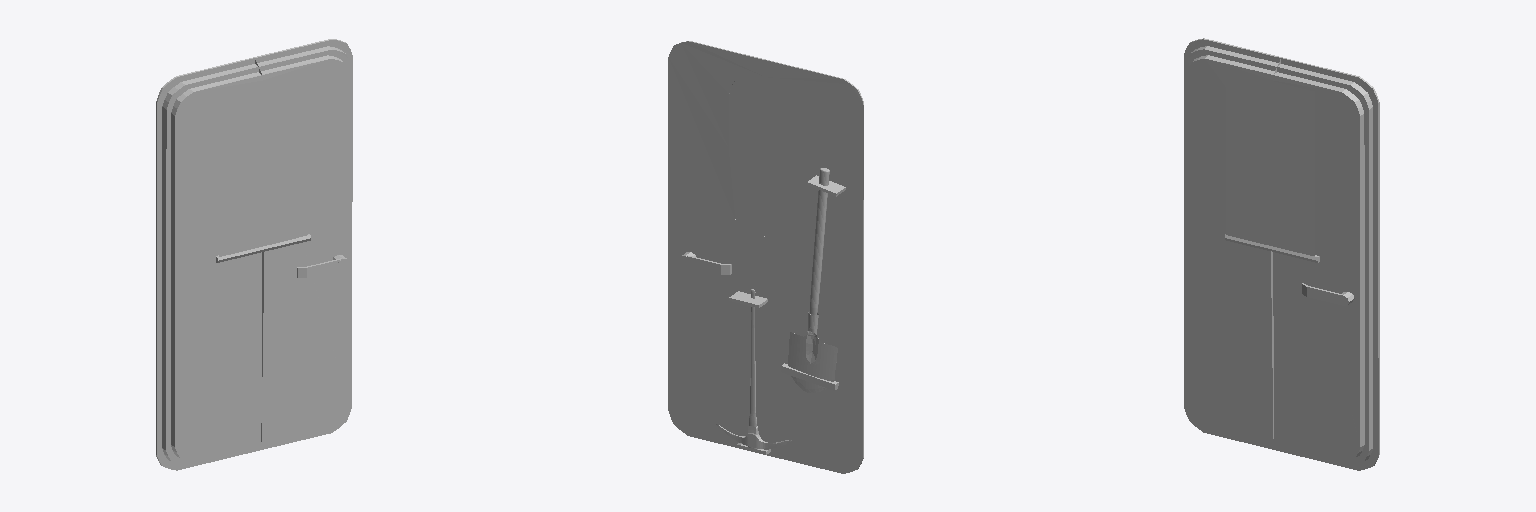
File: innerdoor.obj
The picture shows the model from 3 angles: view 1: azimuth 30°, elevation 25°; view 2: azimuth 150°, elevation 25°; view 3: azimuth 330°, elevation 25°; orthographic projection.
Parts seen in each view (by area): view 1: door_buzd_right_rear.001_Circle.000, curtain.004_Plane.000, door_handle_buzd_inner_left.001_Cube.000; view 2: door_buzd_right_rear.001_Circle.000, curtain.003_Plane.000, shovel.002_Cylinder00.000, pickaxe.001_pCube1.000, door_handle_buzd_exterior_left.001_Cube.000; view 3: door_buzd_right_rear.001_Circle.000, curtain.004_Plane.000, door_handle_buzd_inner_left.001_Cube.000.
Part boxes in pixels (x1,y1,x2,y2): door_buzd_right_rear.001_Circle.000: (156, 39, 352, 470); curtain.004_Plane.000: (219, 70, 307, 256); door_handle_buzd_inner_left.001_Cube.000: (297, 255, 349, 277); door_buzd_right_rear.001_Circle.000: (668, 41, 863, 473); curtain.003_Plane.000: (729, 72, 802, 236); shovel.002_Cylinder00.000: (788, 168, 837, 392); pickaxe.001_pCube1.000: (716, 289, 791, 449); door_handle_buzd_exterior_left.001_Cube.000: (679, 252, 731, 274); door_buzd_right_rear.001_Circle.000: (1184, 38, 1379, 470); curtain.004_Plane.000: (1226, 70, 1314, 255); door_handle_buzd_inner_left.001_Cube.000: (1302, 283, 1354, 305).
Bounding box in the file's own units: 0.7258 × 1.4 × 0.1569.